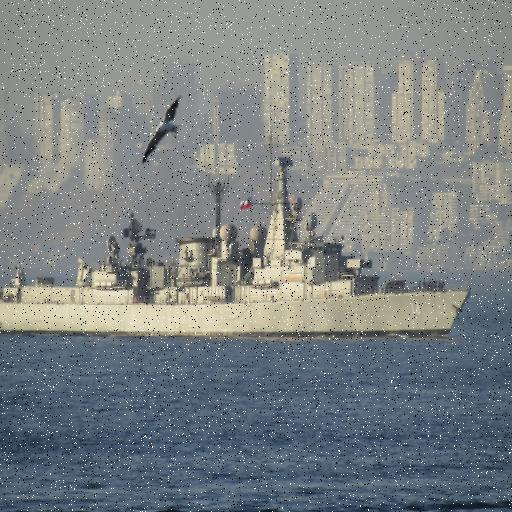Fragata: (1, 163, 475, 344)
